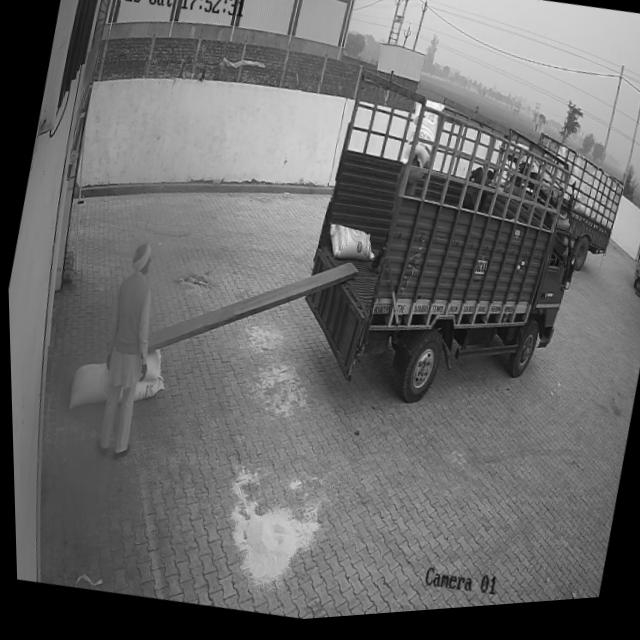sack: (320, 222, 376, 273), (62, 357, 110, 416), (129, 375, 163, 408), (135, 348, 163, 387)
